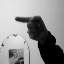g: (14, 14, 49, 41)
